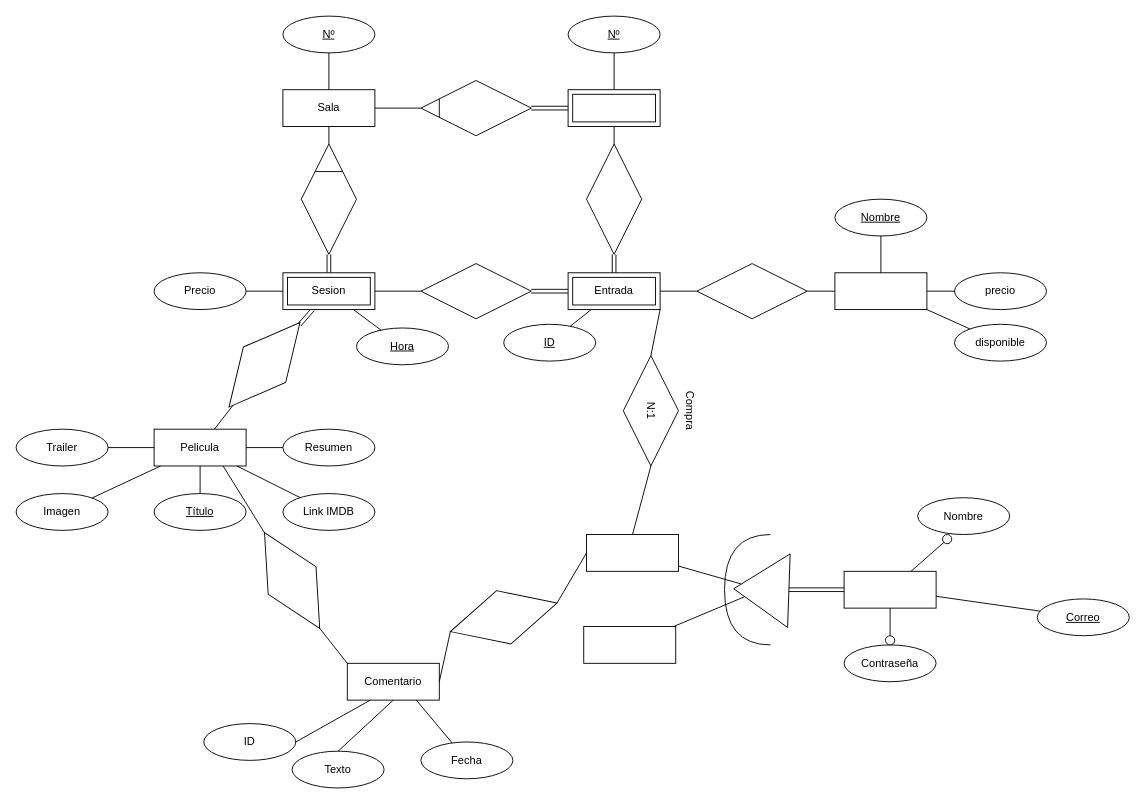
Image size: 1145x804. Some labels were removed from this diagram. The centre of each missing label's shape, as x and y in pixels:
Admin: pixel 629 644
Butaca: pixel 613 107
Cliente: pixel 632 552
Escribe N:1: pixel 503 616
Incluye N:M: pixel 751 291
Ocurre en N:1: pixel 328 198
Pertenece a 1:N: pixel 475 108
Producto: pixel 880 291
Se asocia a 1:N: pixel 475 291
Se asocia a N:1: pixel 614 198
Se escribe 1:N: pixel 291 580
Se proyecta en 1:N: pixel 264 364
Usuario: pixel 889 589
